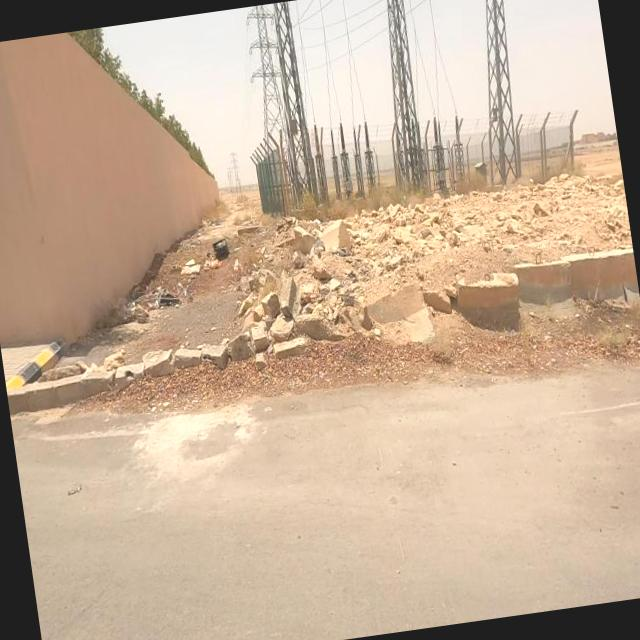debris: (108, 252, 214, 345), (160, 235, 222, 308), (184, 226, 244, 298), (194, 221, 248, 272)
